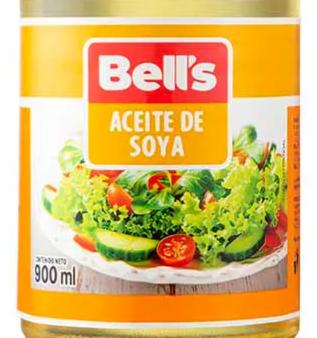brand: (90, 46, 223, 100)
net_weight: (32, 263, 81, 287)
product_name: (101, 104, 222, 166)
